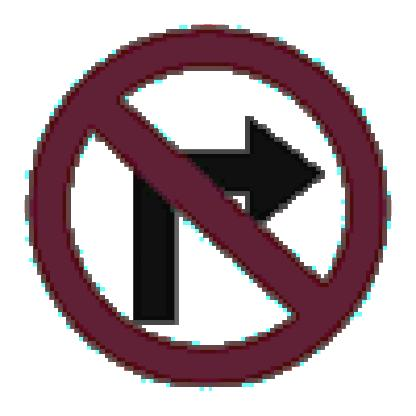No right turn: (16, 25, 388, 393)
